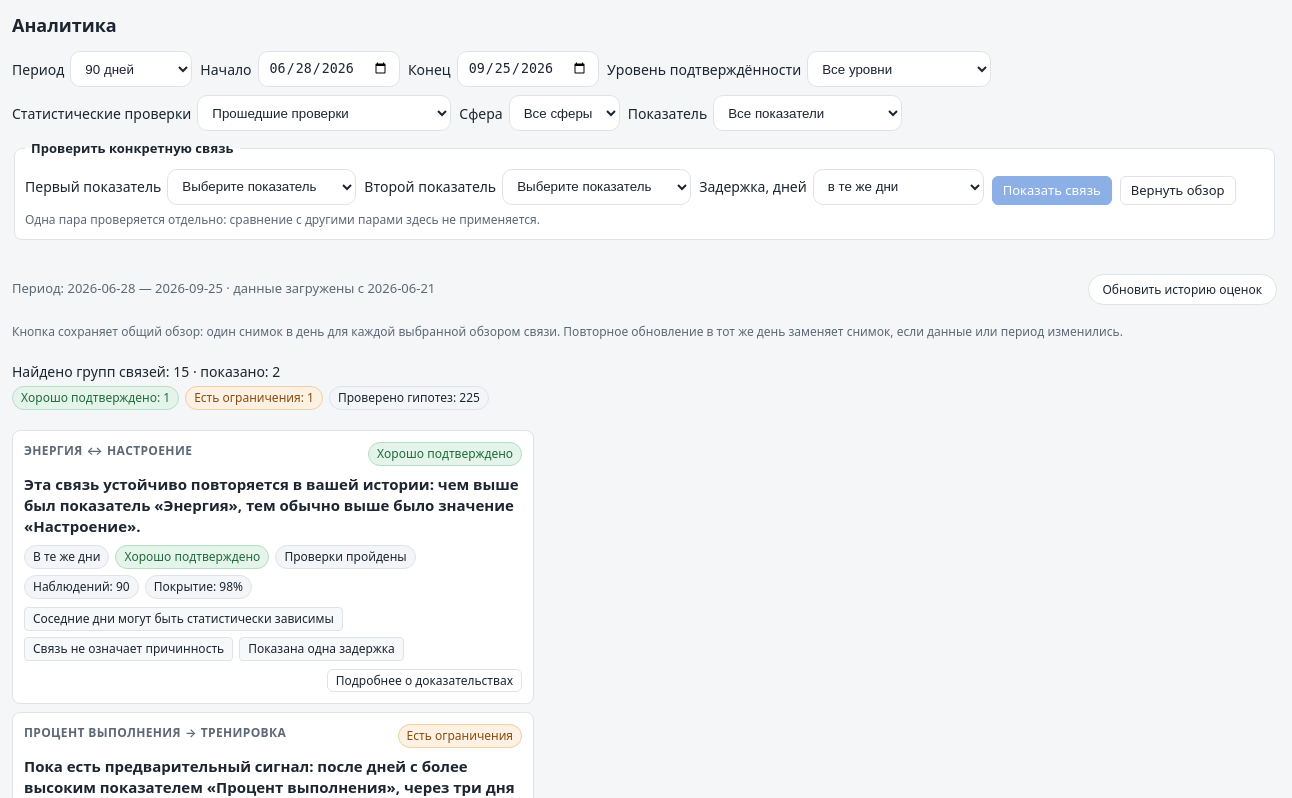
Test: filters an area after discovery and keeps human labels in explorer
Expected: the text "устойчиво повторяется" is shown, [24,474,519,536]
Step 1. Select "Здоровье" in the dropdown labelled "Сфера" → (564, 113), box [509,95,620,131]
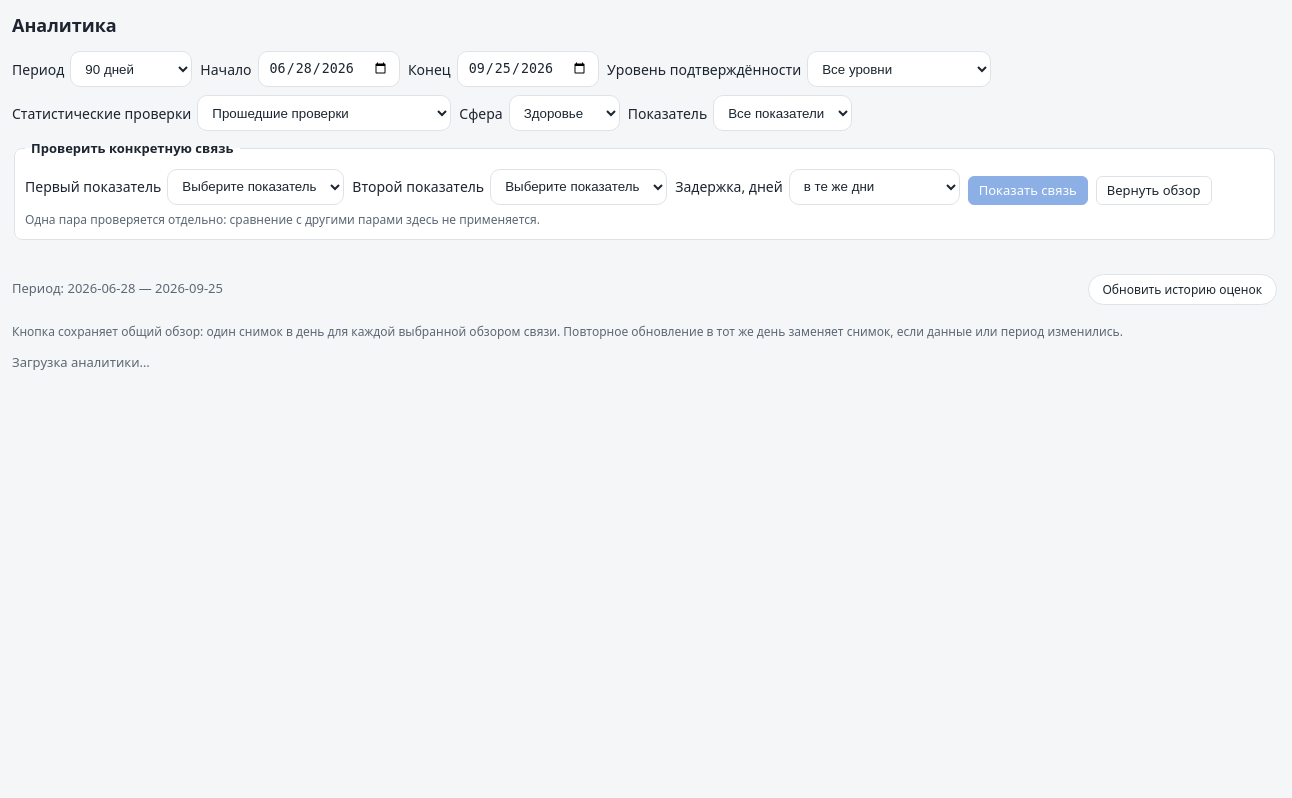
Step 2. Select "Все сферы" in the dropdown labelled "Сфера" → (564, 113), box [509,95,620,131]
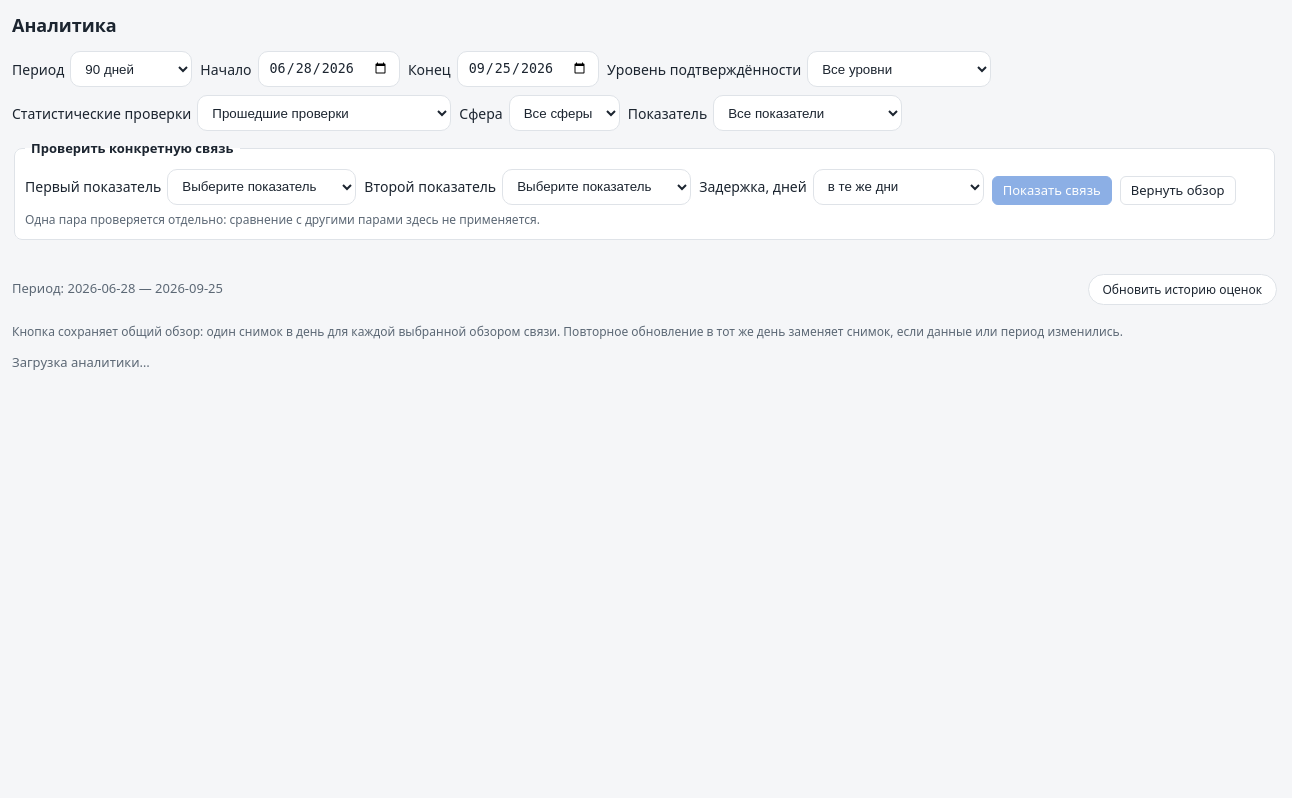
Step 3. Select "Энергия" in the dropdown labelled "Первый показатель" → (262, 186), box [167,168,356,204]
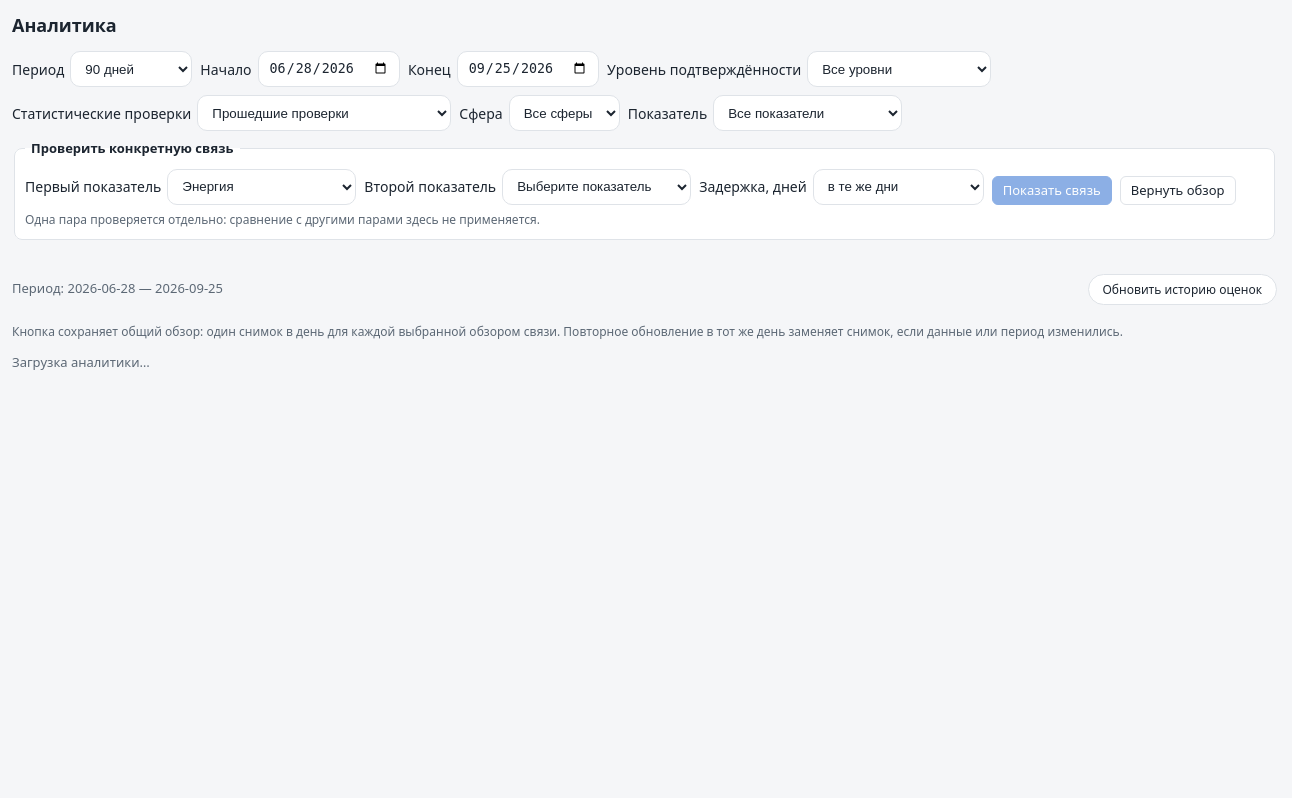
Step 4. Select "Настроение" in the dropdown labelled "Второй показатель" → (597, 186), box [502,168,691,204]
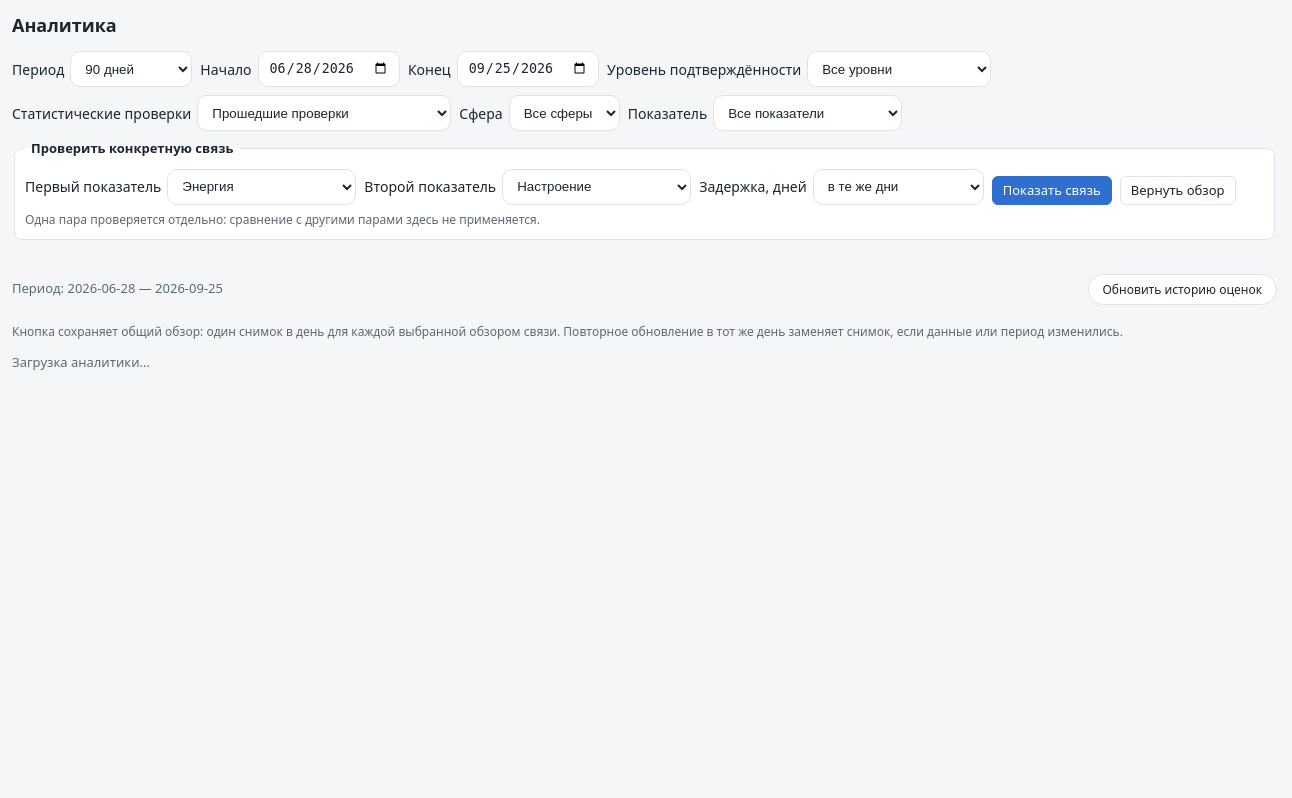
Step 5. Click the button "Показать связь" → click(1052, 190), box [992,176,1112,205]
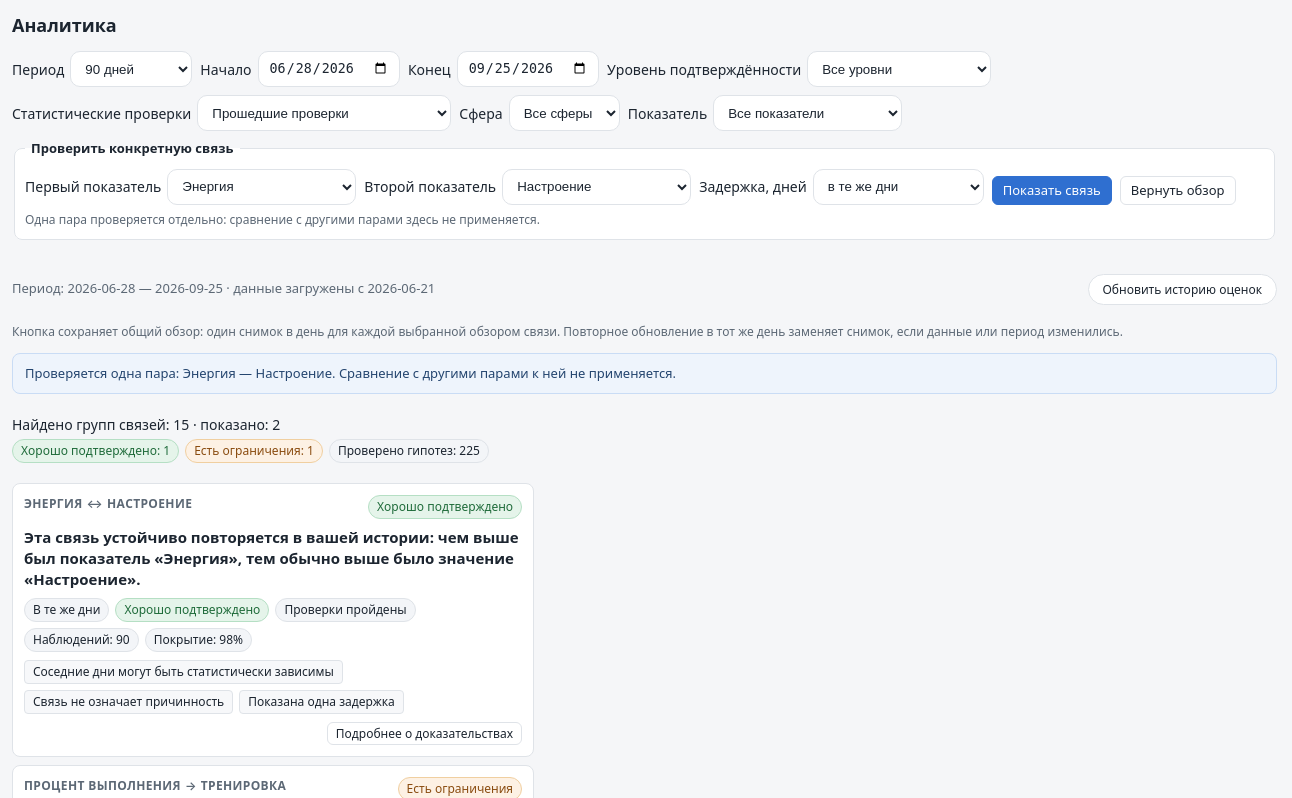
Now the text "Проверяется одна пара: Энергия — Настроение" is shown, box [25,364,676,382]
